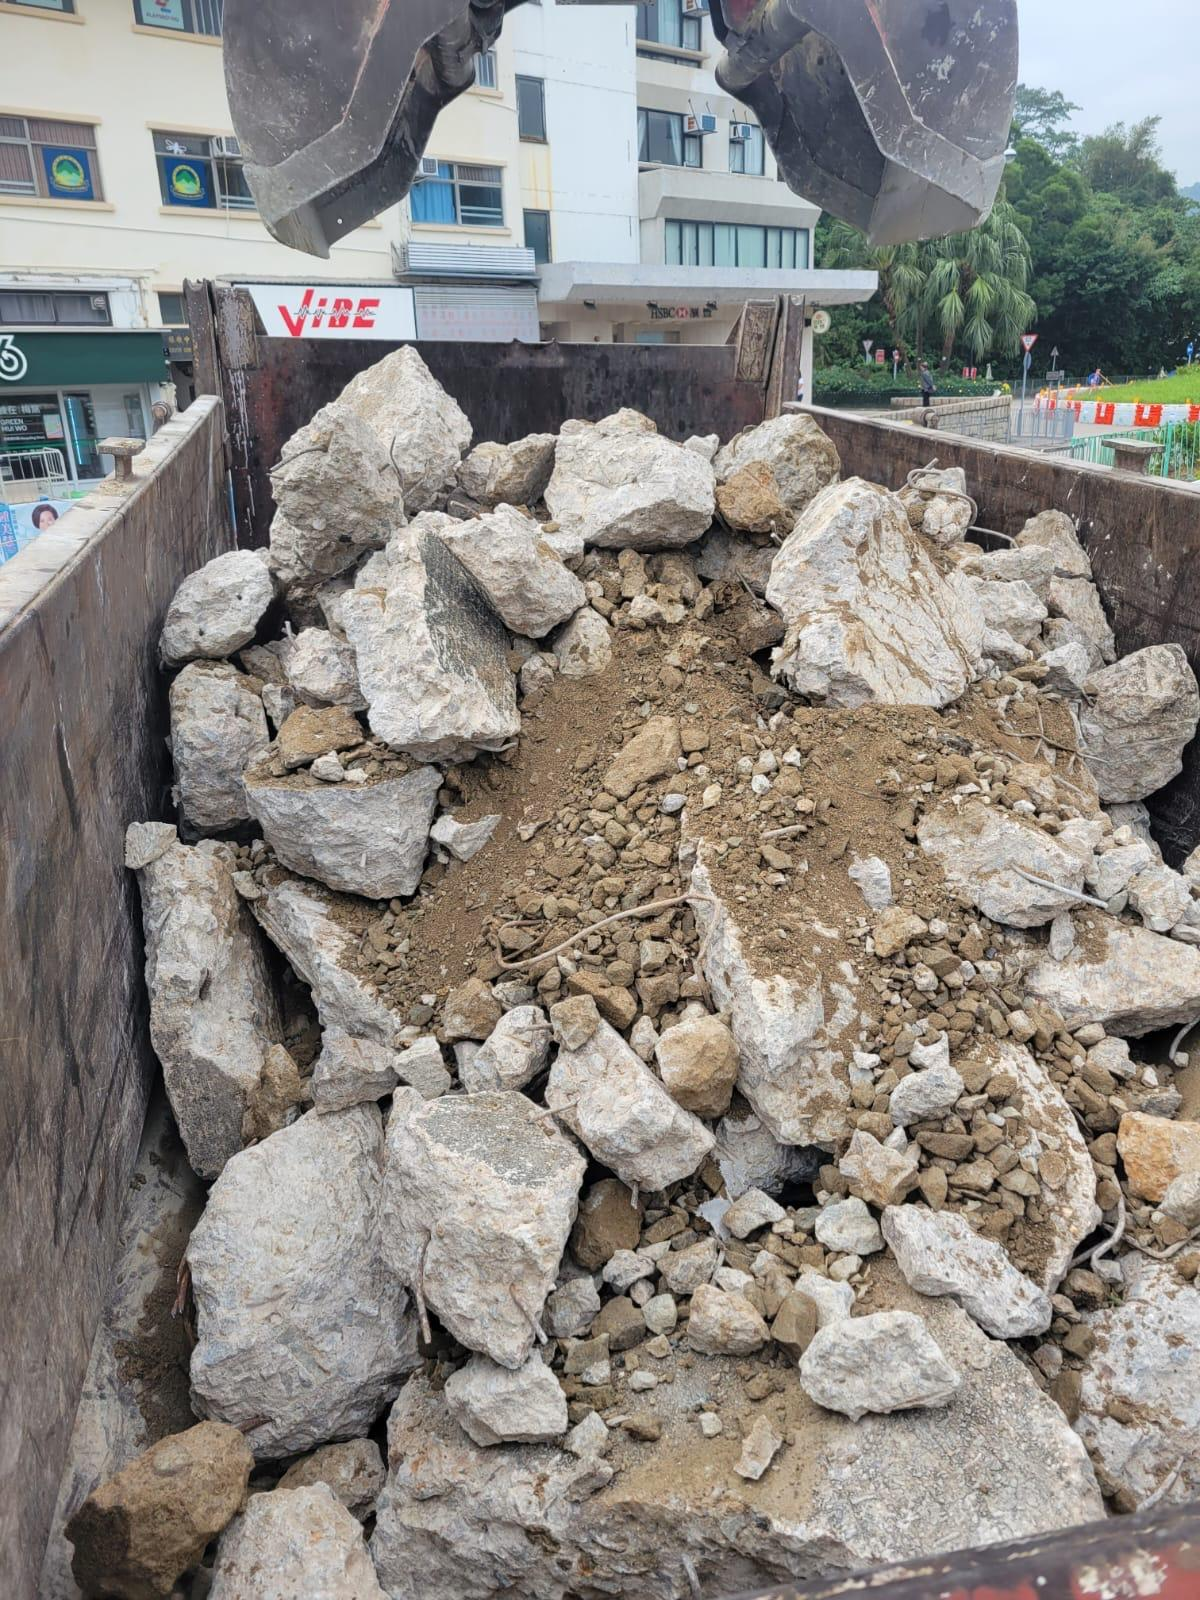dry: (87, 360, 1195, 1587)
